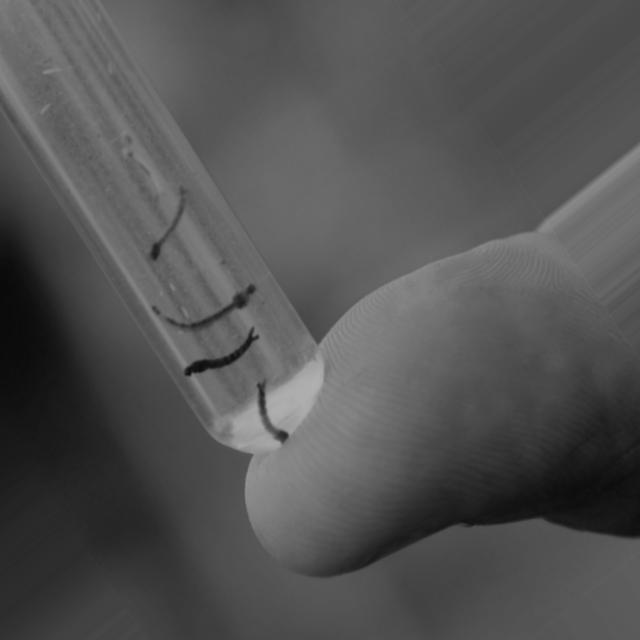larvas: (152, 284, 256, 327), (147, 188, 187, 261), (188, 335, 260, 375), (252, 380, 282, 438), (120, 132, 150, 180)
